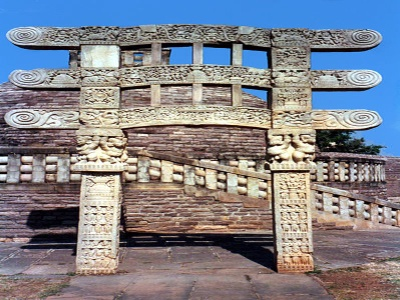torana: (12, 20, 379, 261)
